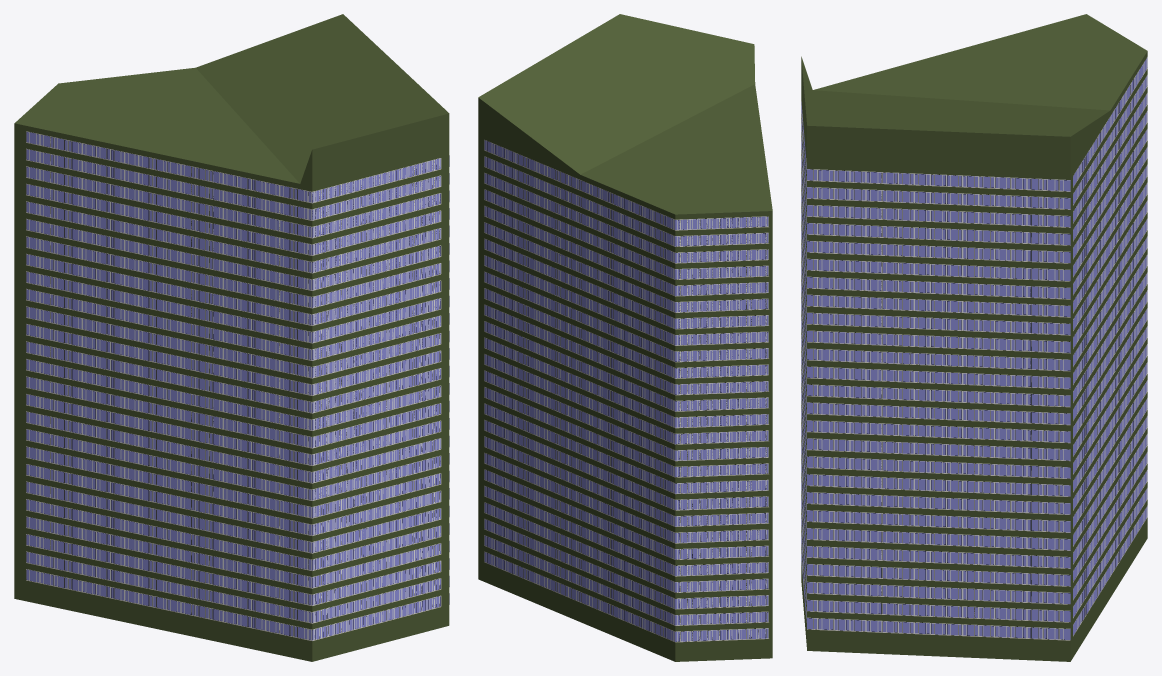
The model's file is WestminsterxFrancisco.fbx.
3 renders of one model, left to right at view 1: azimuth 30°, elevation 25°; view 2: azimuth 150°, elevation 25°; view 3: azimuth 270°, elevation 25°, orthographic. The views are drawn at different scales.
Visible parts, largest first — view 1: WestminsterxFrancisco; view 2: WestminsterxFrancisco; view 3: WestminsterxFrancisco.
Part boxes in pixels (box(x1,y1,x2,y2)): WestminsterxFrancisco: box(14, 14, 449, 661); WestminsterxFrancisco: box(478, 14, 772, 661); WestminsterxFrancisco: box(801, 14, 1147, 661).
Bounding box in the file's own units: 5870 × 8953 × 5353.
